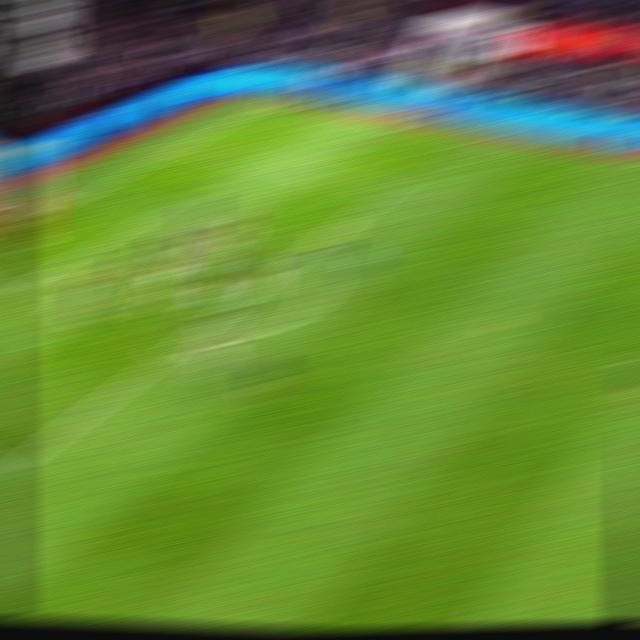bigarea_bottom_inner: (0, 458, 22, 489)
bigarea_top_inner: (373, 180, 409, 198)
bigarea_top_outter: (167, 138, 203, 153)
bottom_arc_area_intersection: (152, 339, 192, 359)
corner: (258, 94, 298, 106)
smallarea_top_inner: (144, 198, 182, 217)
smallarea_top_outter: (75, 181, 111, 200)
top_arc_area_intersection: (288, 242, 324, 259)
